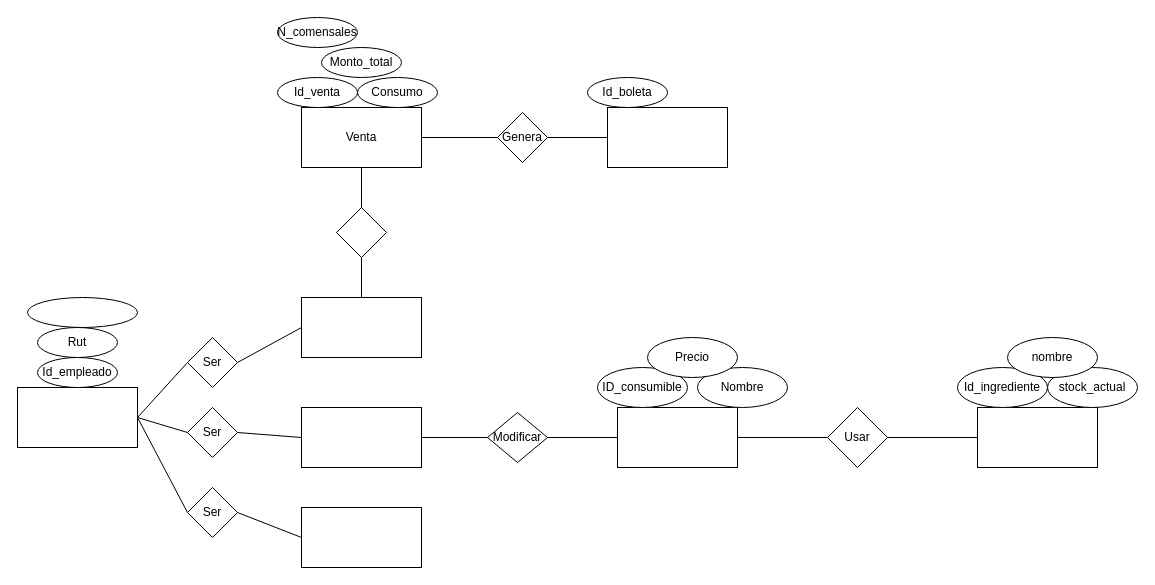
Image size: 1155x585. Some labels were removed from this diagram. The shapes that lost their labels are listed below. From the top down, each one's centre as x and y in pixels, then its label:
At pixel 667 137: "Boleta".
At pixel 361 232: "Realizar".
At pixel 82 312: "Nombre_completo".
At pixel 361 327: "Mesero".
At pixel 77 417: "Empleado".
At pixel 361 437: "Administrador".
At pixel 677 437: "Consumible".
At pixel 1037 437: "ingredientes".
At pixel 361 537: "Cocinero".
